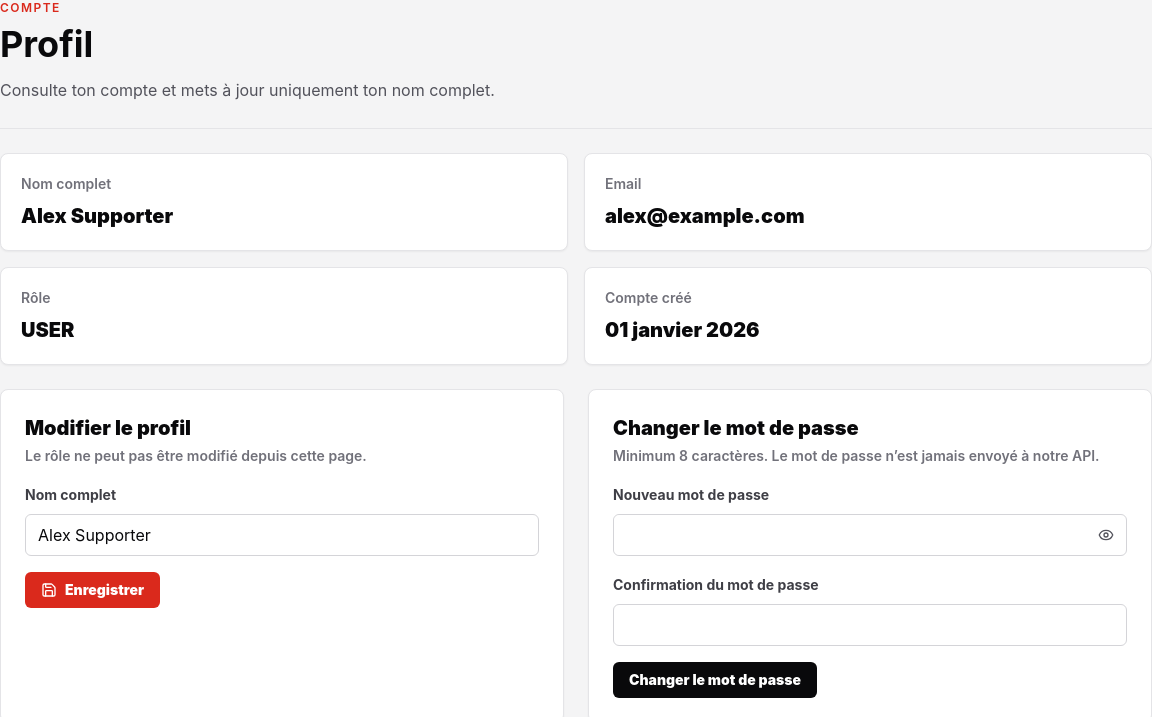
it: account pages › updates the connected password and clears the fields
This screenshot has width=1152, height=717.
Type "NewPassword123!" into the password field labelled "Nouveau mot de passe".
click(850, 535); type("NewPassword123!")  # box [614,515,1086,555]
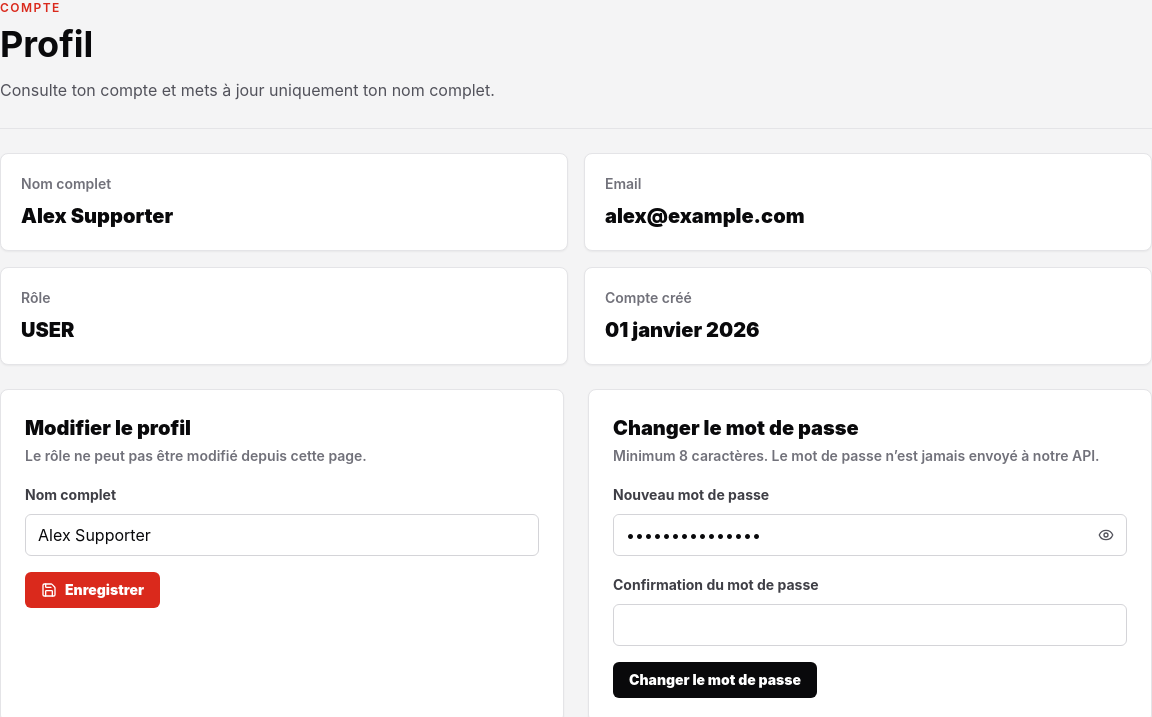
Type "NewPassword123!" into the password field labelled "Confirmation du mot de passe".
click(870, 625); type("NewPassword123!")  # box [613,604,1127,646]
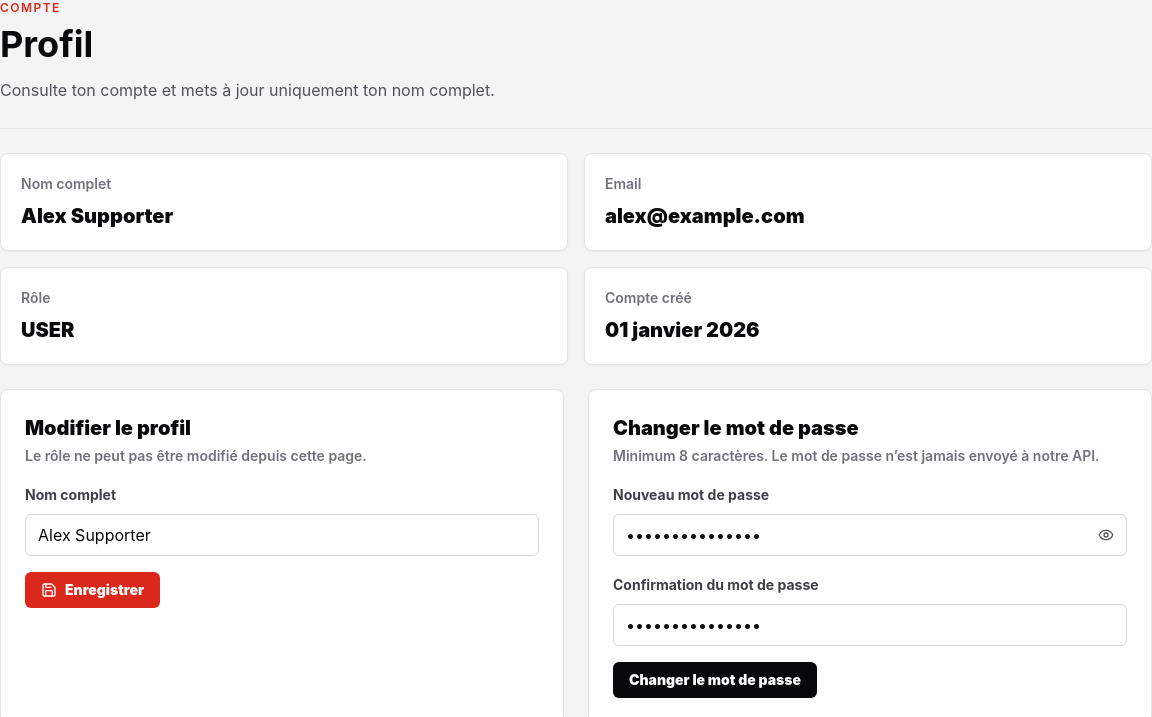
Click the button "Changer le mot de passe".
click(715, 680)  # box [613,662,817,698]
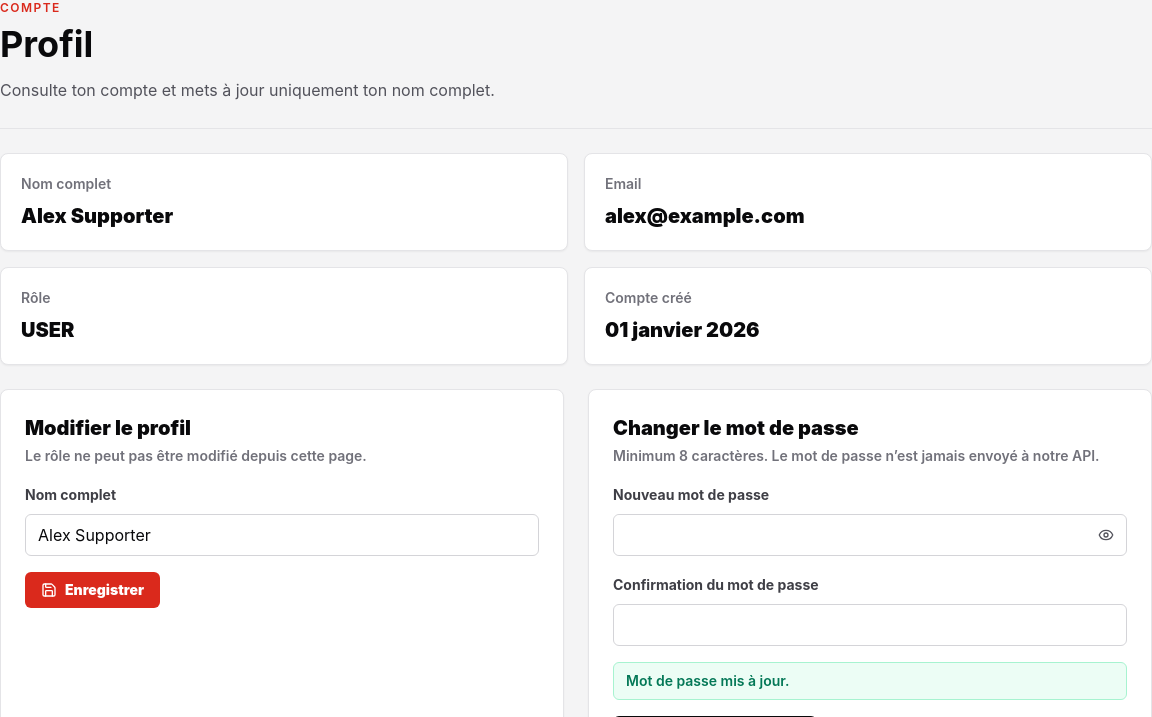
Check: the text "Mot de passe mis à jour." is shown, box [613,662,1127,700]
Check: the password field labelled "Nouveau mot de passe" is empty, box [614,515,1086,555]
